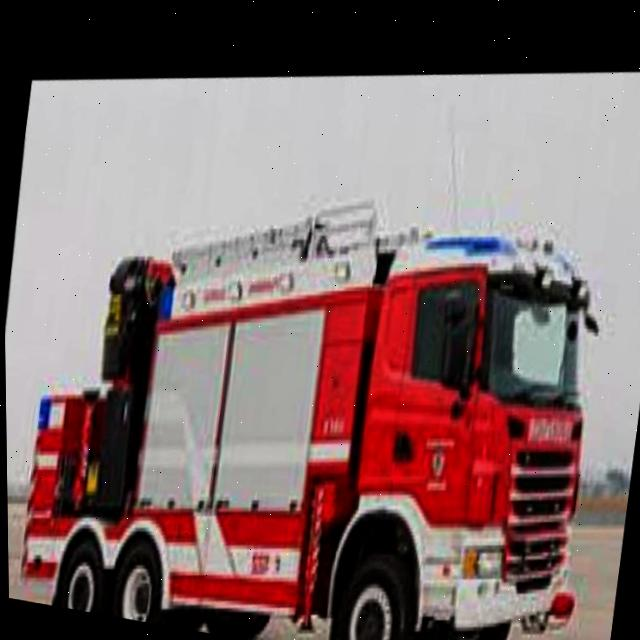emergency: (3, 141, 627, 640)
